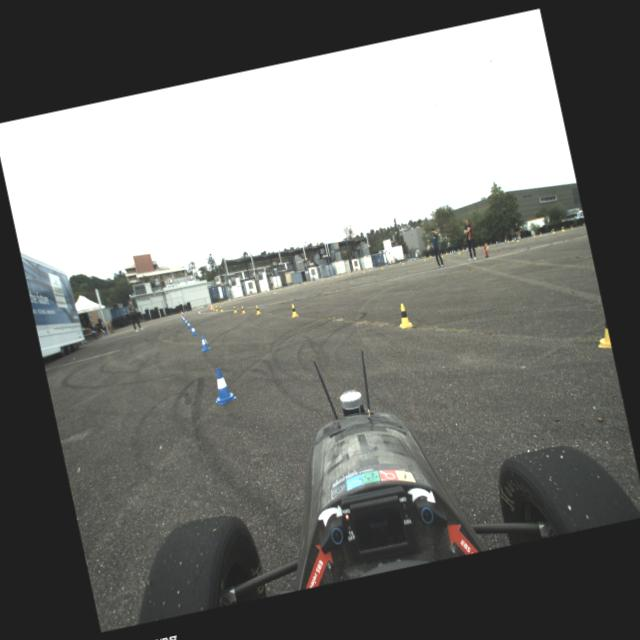blue_cone: (208, 364, 238, 406), (198, 333, 210, 352), (188, 324, 196, 336), (184, 318, 188, 326), (187, 321, 190, 329), (466, 246, 468, 252), (489, 242, 492, 245), (496, 240, 498, 244), (185, 310, 187, 314), (399, 260, 401, 264), (414, 257, 416, 261), (451, 249, 453, 253), (504, 239, 506, 243), (518, 236, 520, 240), (583, 222, 585, 226), (453, 250, 455, 253), (193, 308, 195, 311), (373, 266, 375, 269), (417, 257, 419, 260), (514, 237, 516, 240), (202, 306, 204, 308), (300, 282, 302, 284), (283, 286, 285, 288), (316, 278, 317, 282), (346, 272, 348, 274), (386, 264, 388, 266), (422, 256, 424, 258), (332, 275, 333, 278)
large_orange_cone: (209, 303, 213, 310), (180, 310, 183, 317)
yellow_cone: (395, 302, 413, 329), (290, 302, 298, 317), (254, 304, 260, 314), (240, 305, 246, 314), (232, 306, 236, 312), (214, 306, 218, 312), (561, 226, 565, 231), (220, 305, 223, 311), (516, 236, 519, 242), (532, 232, 535, 238), (457, 248, 460, 254), (440, 252, 443, 258), (212, 306, 215, 310), (511, 237, 514, 241), (215, 302, 218, 306), (423, 256, 426, 260), (539, 232, 542, 236), (570, 224, 573, 228), (552, 228, 554, 233), (486, 243, 488, 248), (381, 265, 383, 269), (402, 260, 404, 264), (348, 271, 350, 275), (336, 274, 338, 278), (321, 276, 323, 280), (221, 300, 223, 304), (279, 286, 281, 290), (304, 280, 306, 284), (362, 269, 364, 273), (445, 250, 447, 254), (462, 247, 464, 251), (506, 238, 508, 242), (232, 298, 235, 300), (264, 290, 266, 293), (292, 284, 294, 287), (429, 254, 432, 256), (449, 250, 451, 253), (477, 245, 479, 248), (250, 294, 252, 296)
